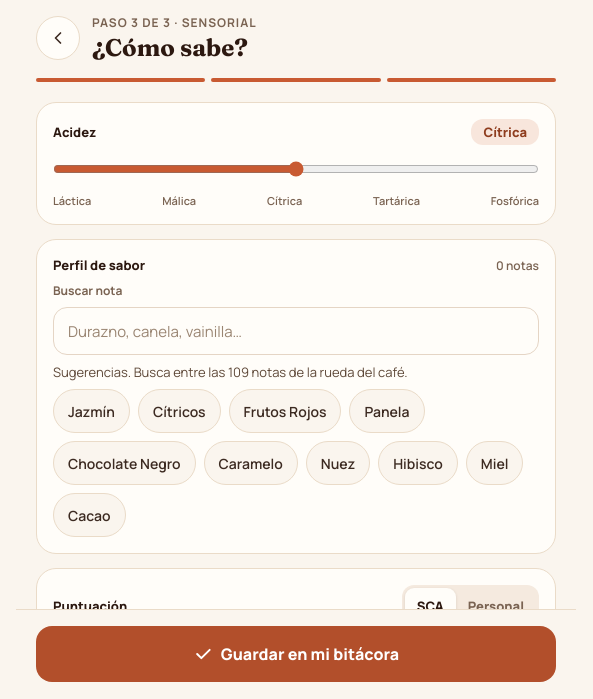
Test case: Paso3Sensorial › muestra la etiqueta dinámica de acidez
This screenshot has width=593, height=699.
Check: the text "Cítrica" in the row of "Acidez" is shown, box 483,123 -> 527,141
Set the slider labelled "Acidez" to "5" at point(531, 169), box 53,155 -> 539,183
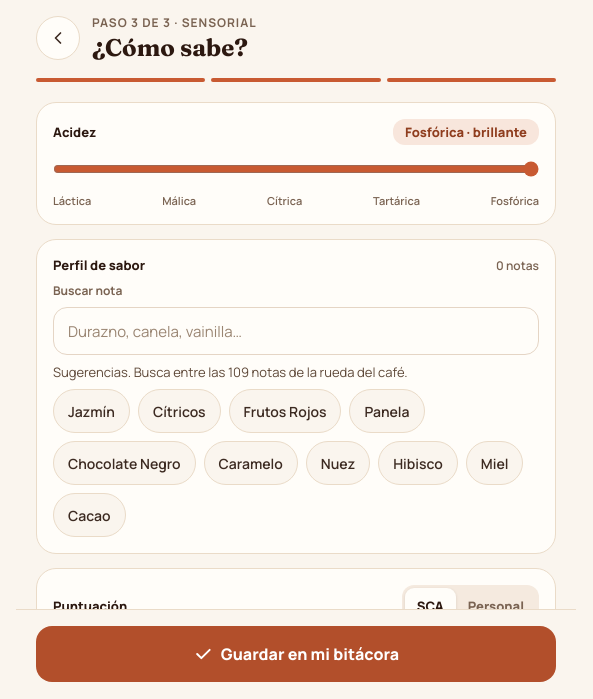
Check: the text "Fosfórica · brillante" is shown, box 393,119 -> 539,145
